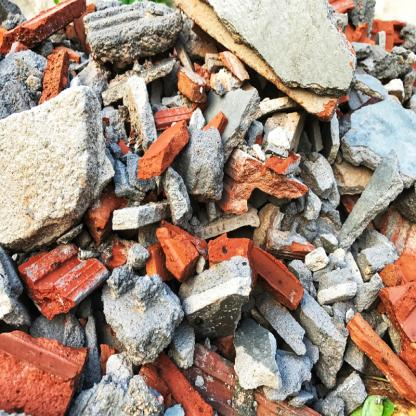brick: (19, 64, 313, 320), (235, 293, 366, 415), (139, 332, 323, 414), (284, 103, 375, 252), (0, 0, 100, 105), (344, 256, 414, 400), (335, 0, 414, 106), (289, 245, 384, 328), (1, 330, 86, 412)
